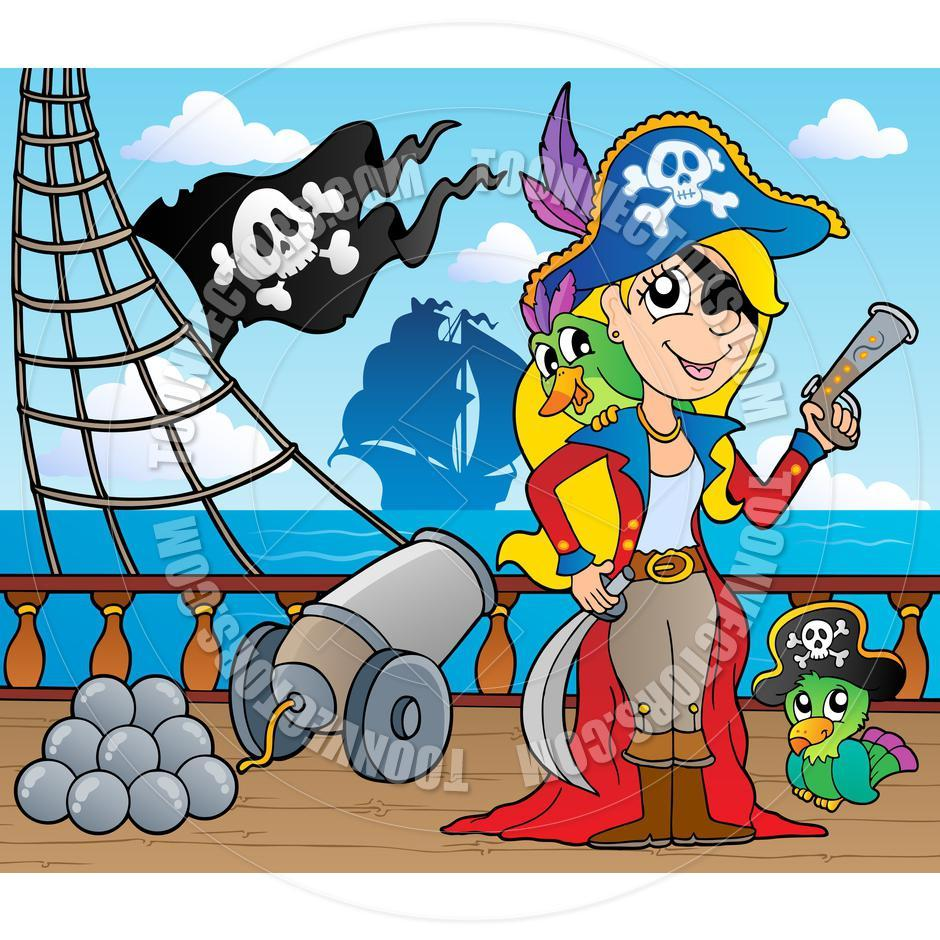bird: (507, 283, 696, 428), (759, 665, 915, 820)
boat: (331, 290, 528, 515)
person: (503, 178, 805, 853)
